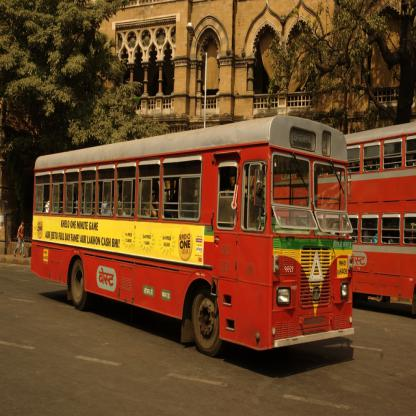Bus: (30, 115, 354, 357), (229, 121, 415, 315)
